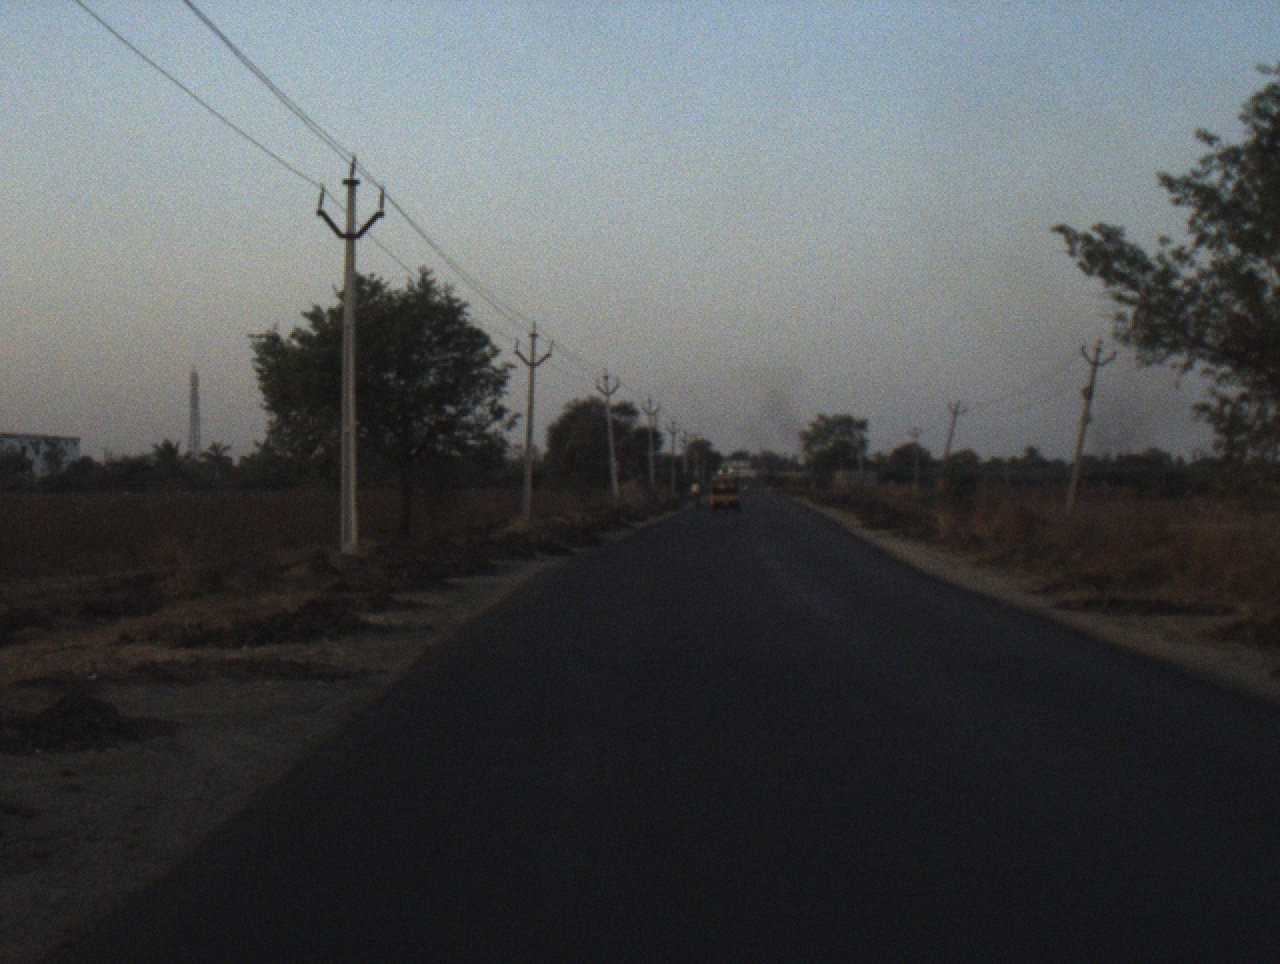autorickshaw: (705, 472, 742, 514)
bicycle: (691, 491, 701, 509)
rider: (691, 480, 700, 503)
